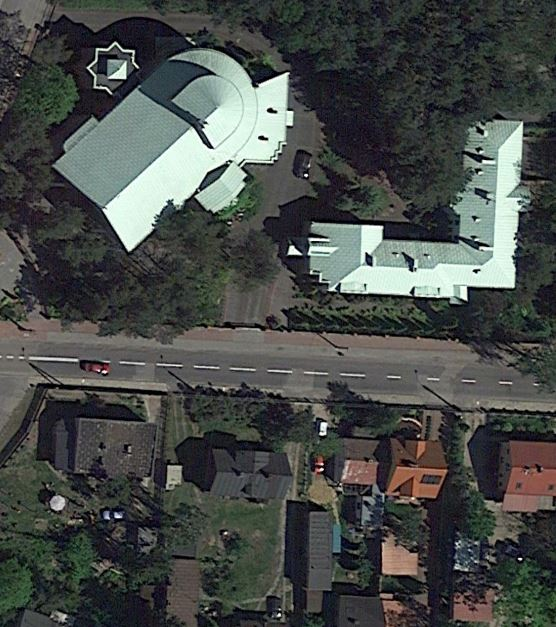block of flats: (273, 105, 538, 310)
church: (42, 24, 322, 282)
family house: (36, 409, 173, 487), (375, 424, 461, 509), (196, 440, 298, 509), (483, 432, 556, 520), (327, 431, 392, 490)
